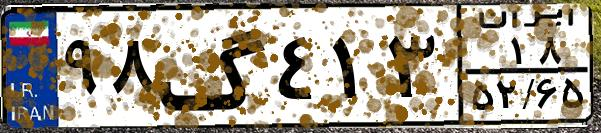1: (330, 28, 385, 110), (508, 27, 537, 80)
2: (495, 70, 520, 125)
3: (385, 28, 445, 110)
4: (270, 28, 330, 110)
5: (560, 70, 590, 125), (470, 70, 495, 125)
6: (535, 70, 560, 125)
8: (110, 28, 156, 98), (537, 27, 568, 80)
9: (57, 26, 110, 100)
گ: (156, 12, 270, 120)
